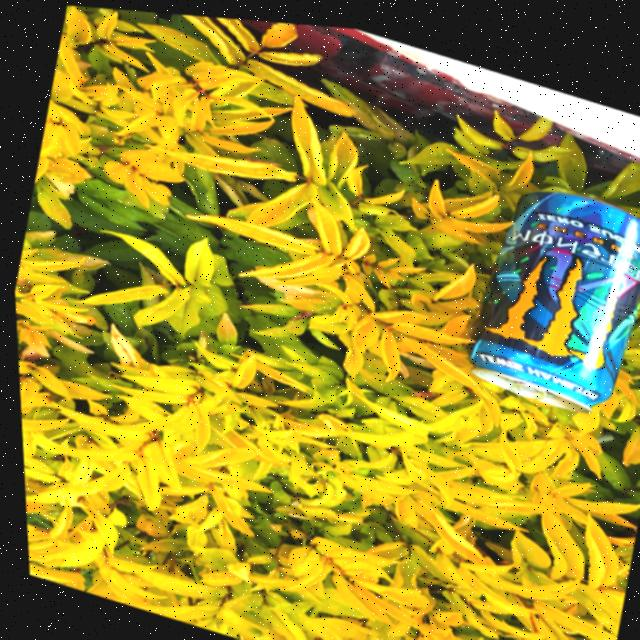Monster LH44: (457, 163, 640, 421)
